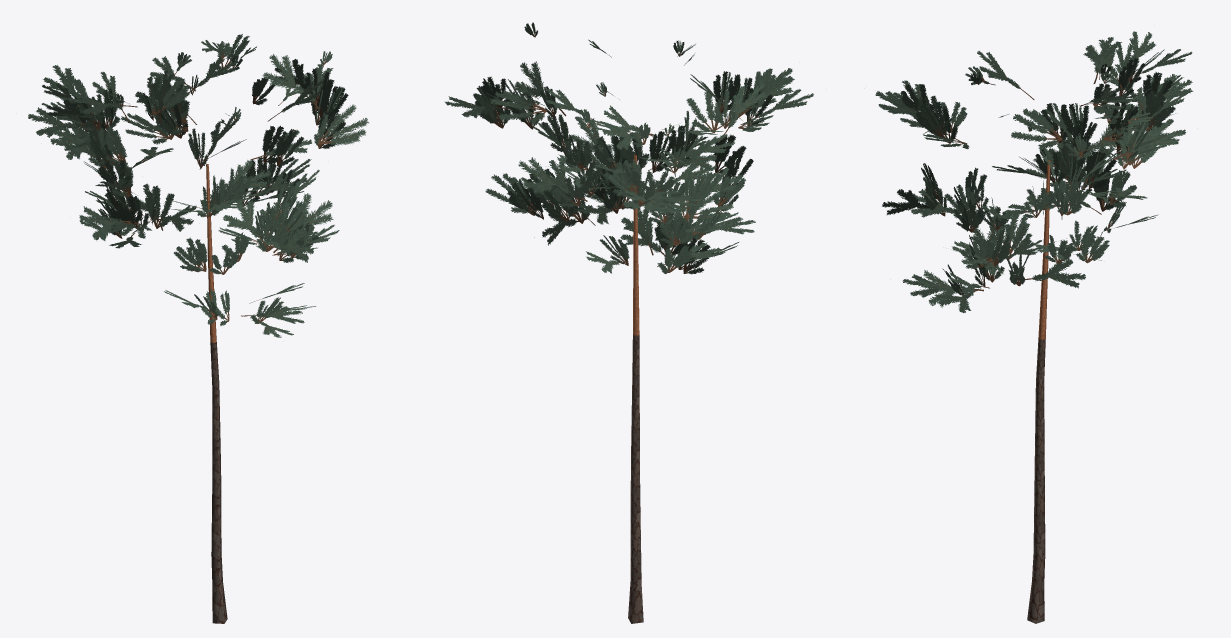
File: pine_a_LOD2.glb
3 renders of one model, left to right at view 1: azimuth 30°, elevation 25°; view 2: azimuth 150°, elevation 25°; view 3: azimuth 270°, elevation 25°, orthographic. The views are drawn at different scales.
Parts seen in each view (by area): view 1: Pine_A_LOD2_Foliage, Pine_A_LOD2_Bark; view 2: Pine_A_LOD2_Foliage, Pine_A_LOD2_Bark; view 3: Pine_A_LOD2_Foliage, Pine_A_LOD2_Bark.
Boxes of the visible parts, x1,y1,x2,y2 form: Pine_A_LOD2_Foliage: [28, 34, 368, 337]; Pine_A_LOD2_Bark: [206, 164, 227, 623]; Pine_A_LOD2_Foliage: [445, 22, 813, 274]; Pine_A_LOD2_Bark: [628, 154, 643, 623]; Pine_A_LOD2_Foliage: [875, 31, 1193, 312]; Pine_A_LOD2_Bark: [1027, 159, 1050, 623].
Bounding box in the file's own units: 12.19 × 20.96 × 12.21.
Materials: 2 (2 with a texture image).
